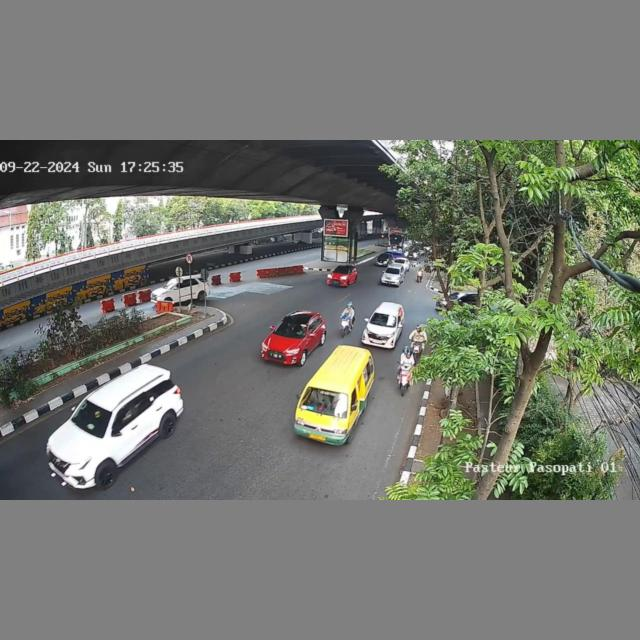windshield: (72, 399, 112, 438), (302, 385, 349, 414), (274, 319, 307, 338), (369, 313, 399, 326)
